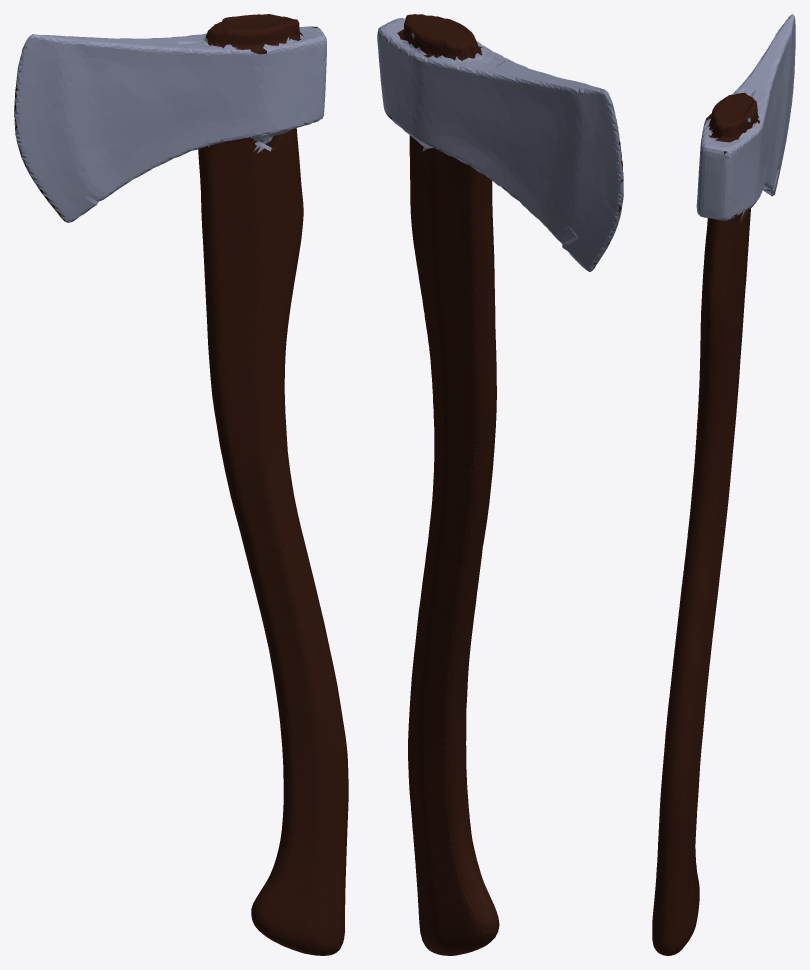
The model's file is axe.glb.
The picture shows the model from 3 angles, left to right: view 1: azimuth 30°, elevation 25°; view 2: azimuth 150°, elevation 25°; view 3: azimuth 270°, elevation 25°; orthographic projection. The views are drawn at different scales.
Parts seen in each view (by area): view 1: tmpa61_rgud.ply; view 2: tmpa61_rgud.ply; view 3: tmpa61_rgud.ply.
Part boxes in pixels (x1,y1,x2,y2): tmpa61_rgud.ply: [14, 14, 348, 955]; tmpa61_rgud.ply: [377, 14, 623, 955]; tmpa61_rgud.ply: [652, 14, 795, 955].
Bounding box in the file's own units: 0.7155 × 2.34 × 0.3631.
